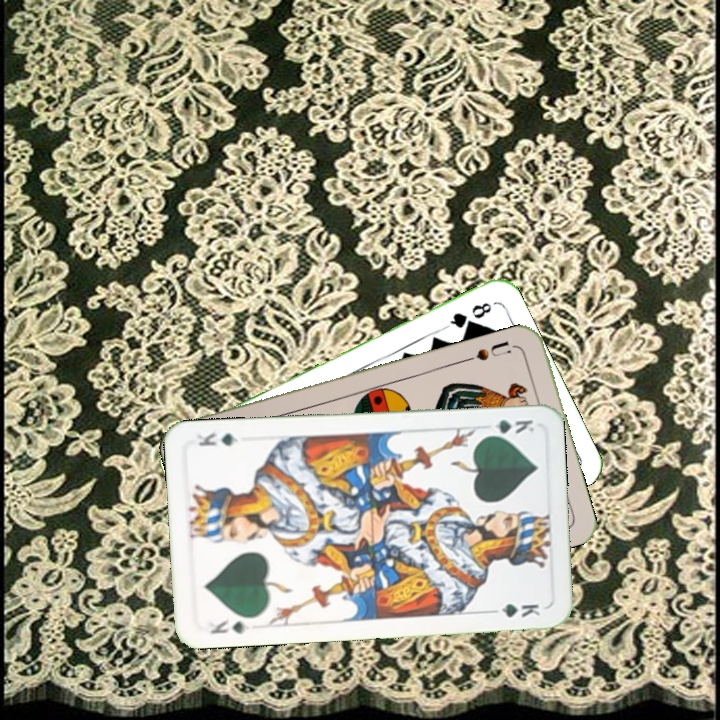G8: (442, 298, 495, 331)
GK: (478, 415, 537, 439), (207, 615, 252, 637)
SU: (461, 337, 513, 365)
